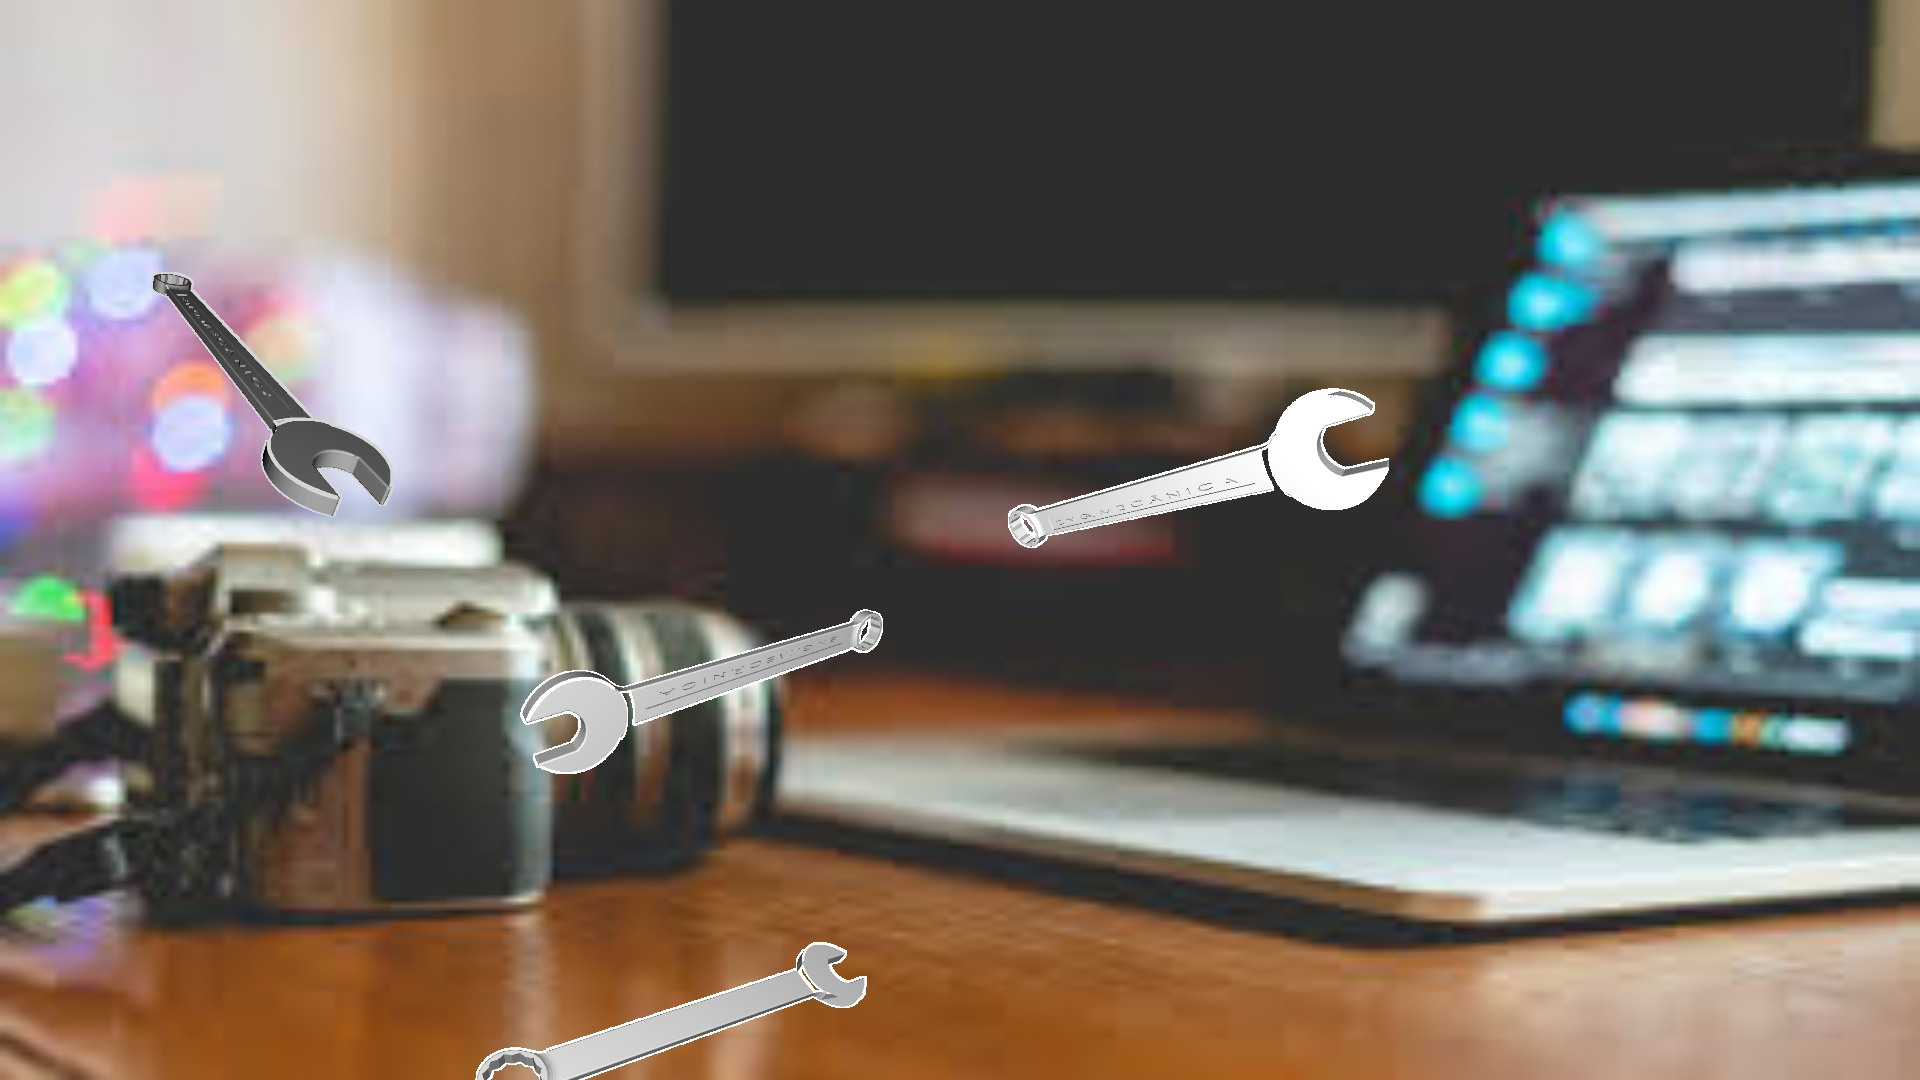Mixed Key: (1008, 388, 1388, 547), (520, 609, 882, 773), (151, 272, 393, 516), (475, 942, 866, 1079)
